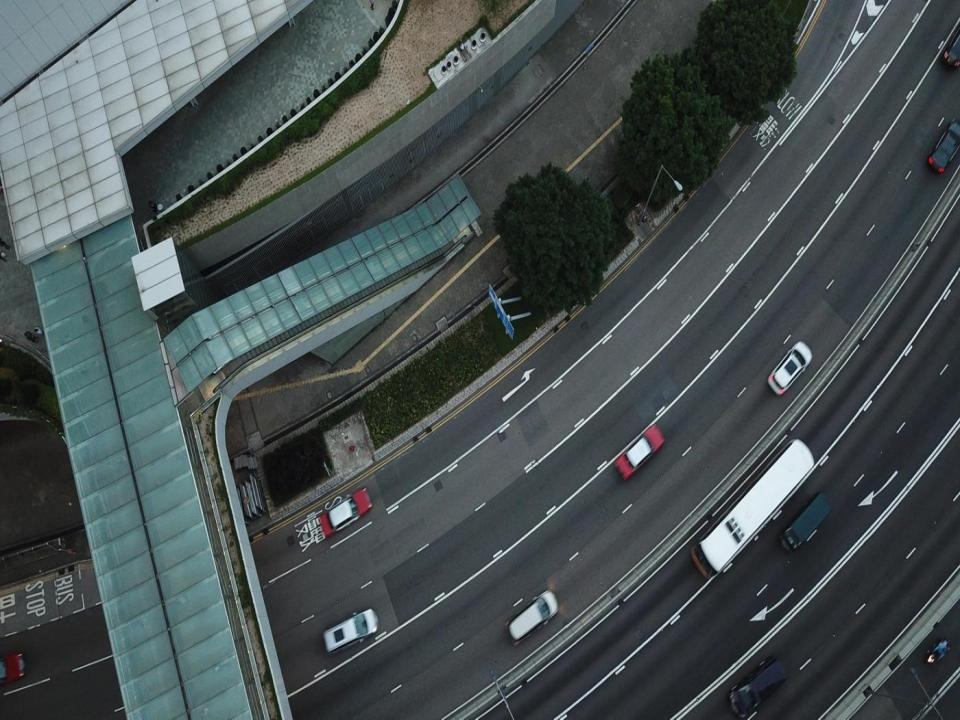bus: (693, 436, 816, 581)
car: (728, 653, 789, 718), (318, 488, 375, 537), (613, 425, 663, 479), (768, 337, 812, 396), (930, 119, 960, 172), (943, 23, 960, 73), (0, 650, 23, 678)
van: (778, 493, 834, 552), (506, 590, 560, 642), (321, 605, 379, 651)
